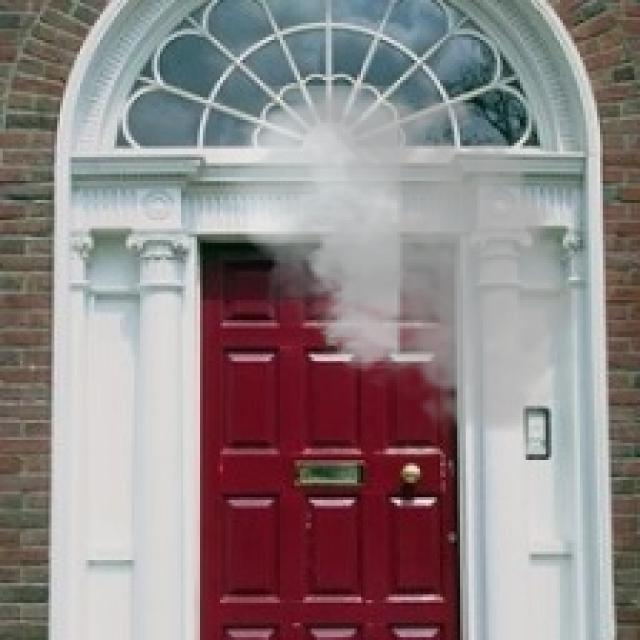smoke: (220, 71, 600, 440)
